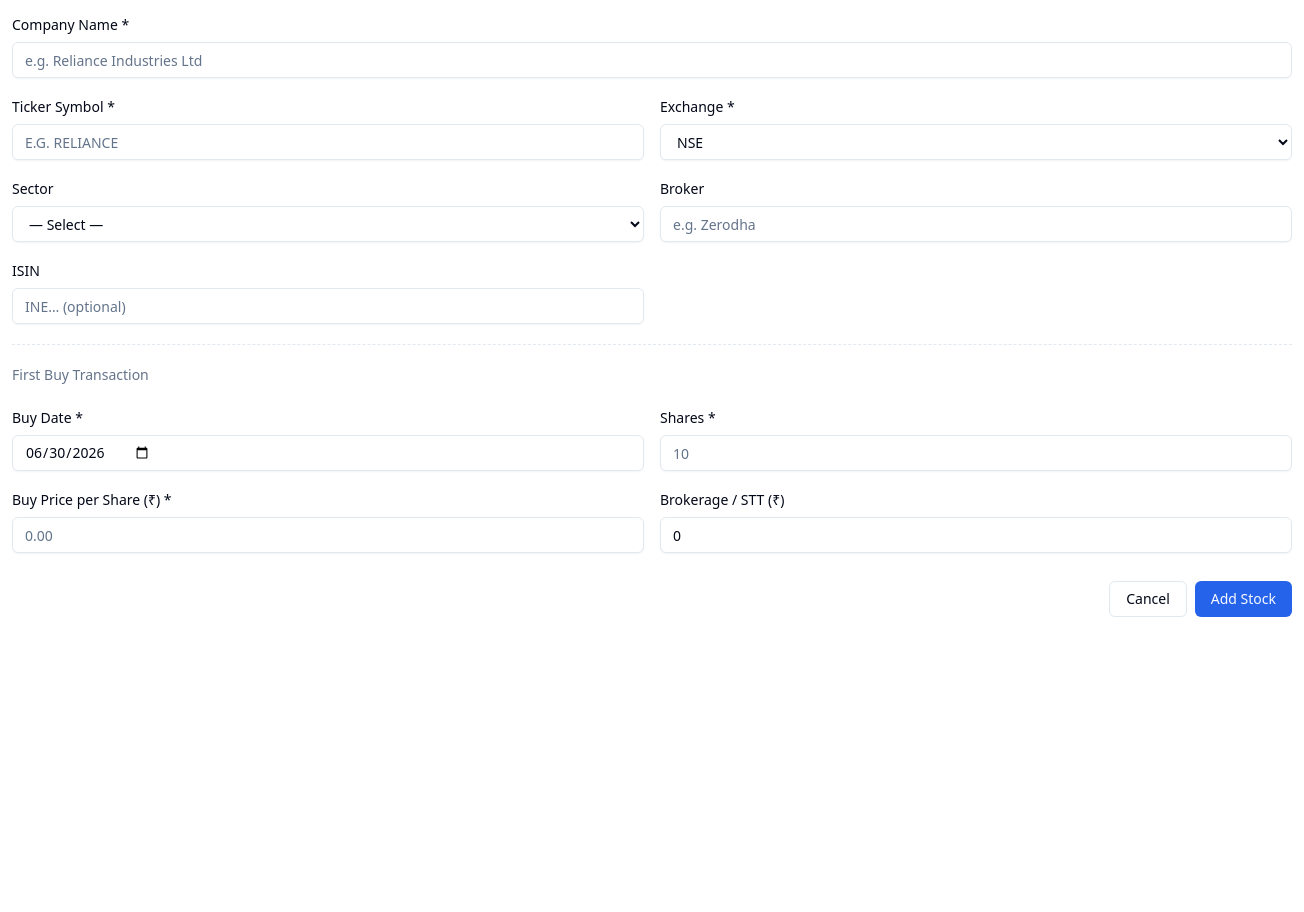
StockForm › submit with empty form shows required errors
Click the button "Add Stock" at (1243, 599), box [1195, 581, 1292, 617]
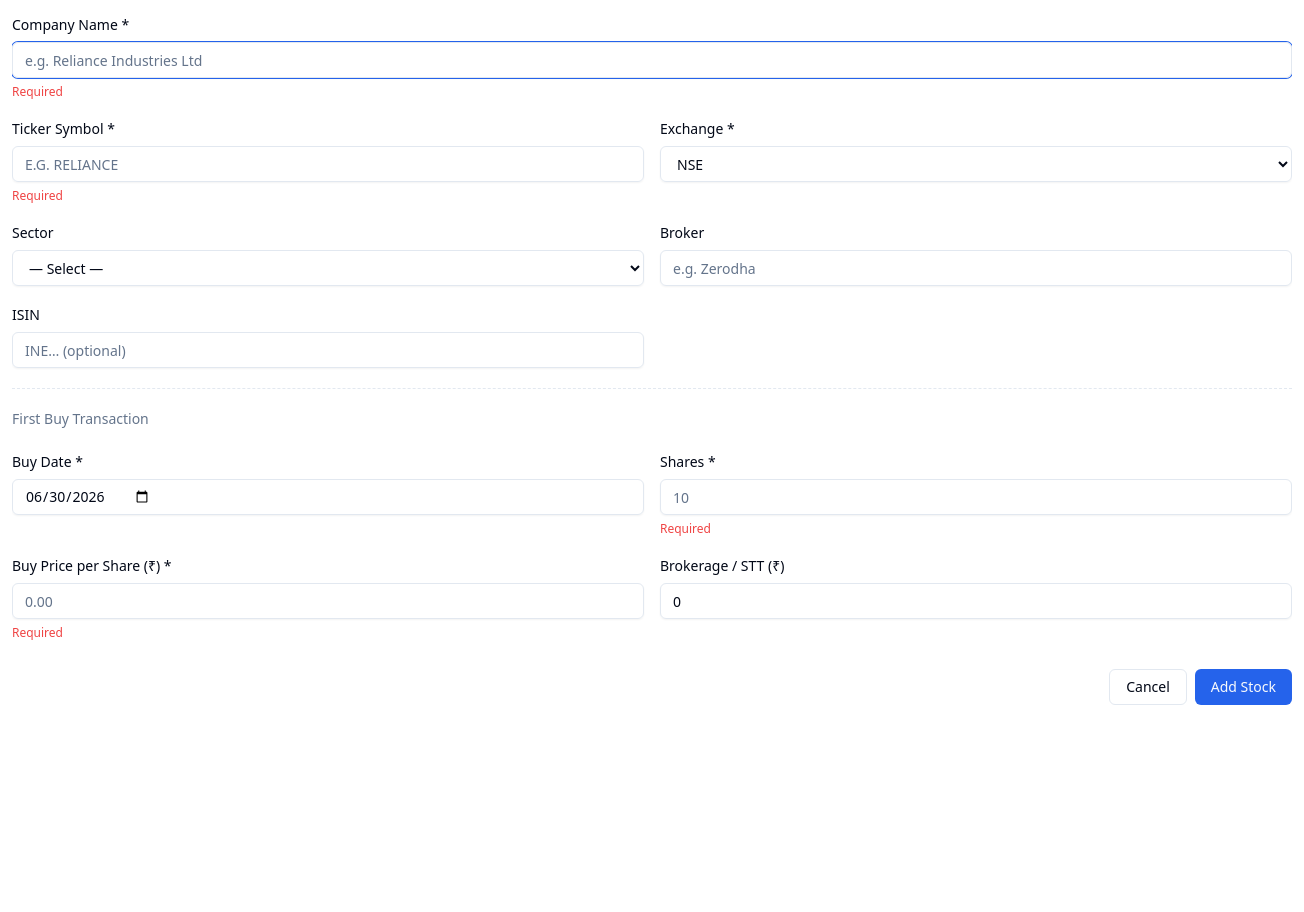
expect the text "Required" below "Company Name *" is shown: met, box [12, 83, 63, 100]
